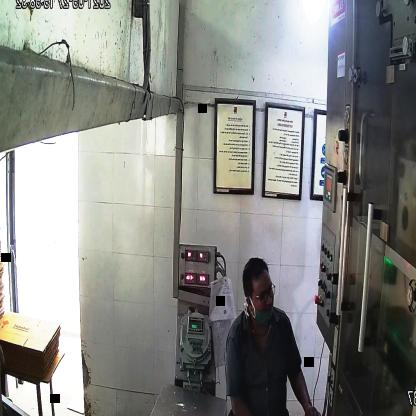goggles: (248, 276, 280, 306)
